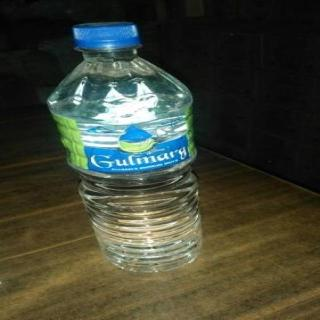Anorganik: (45, 19, 212, 274)
